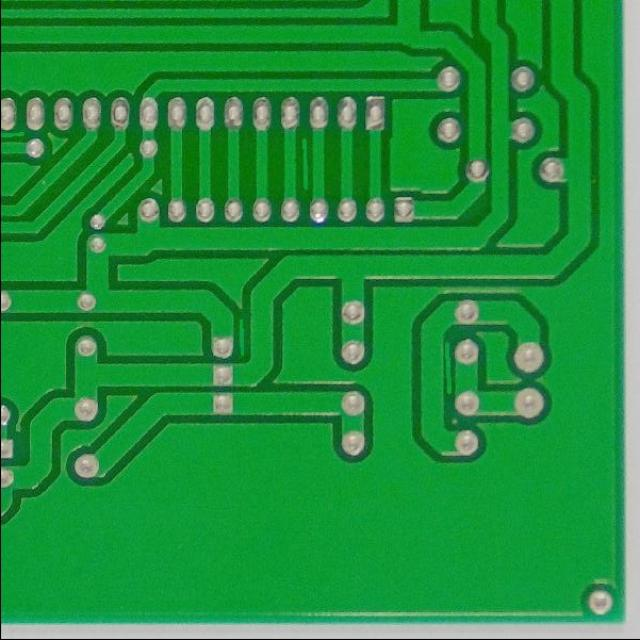Spurious_Cooper: (297, 133, 313, 194), (440, 337, 456, 396), (234, 316, 250, 360), (0, 126, 27, 140)
